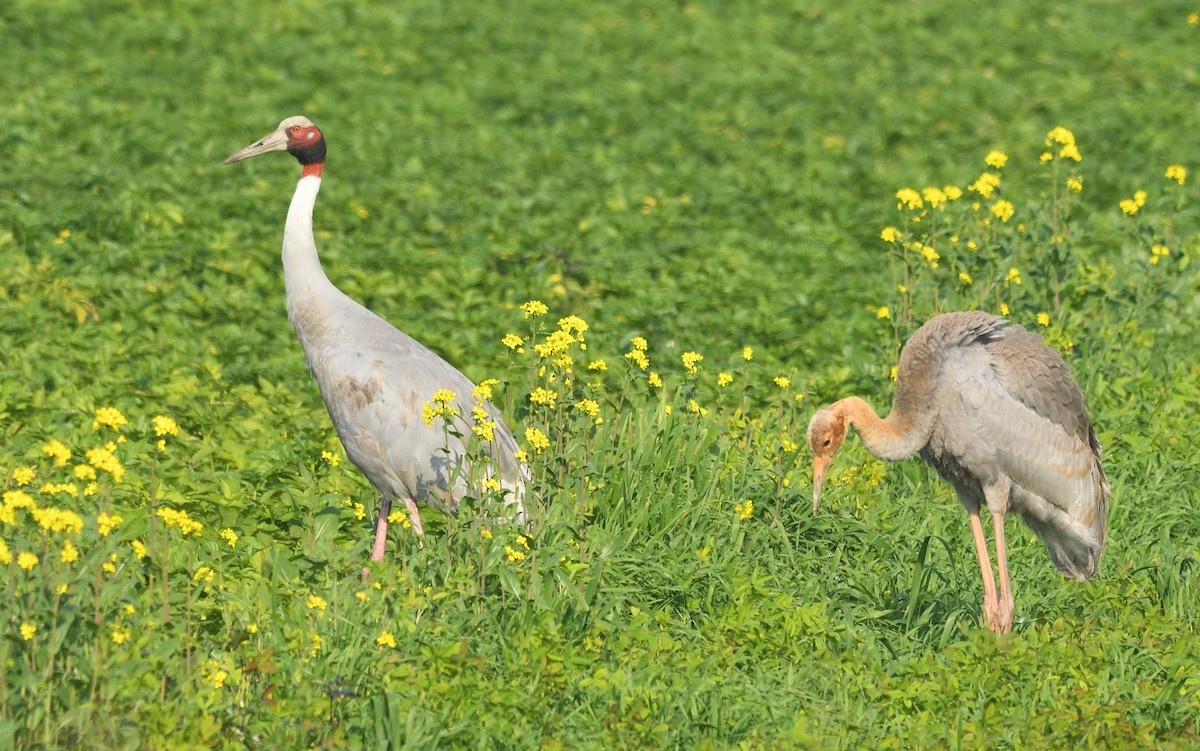crane: (212, 106, 583, 597), (808, 302, 1112, 625)
